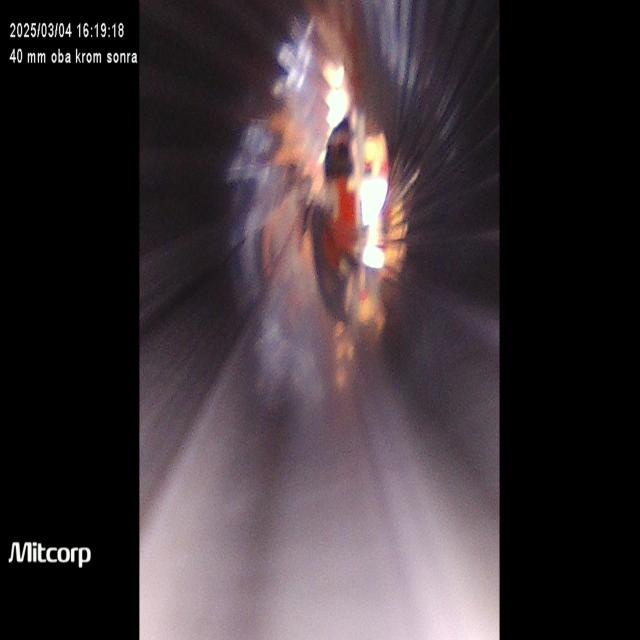hata_8.1: (250, 300, 354, 424)
